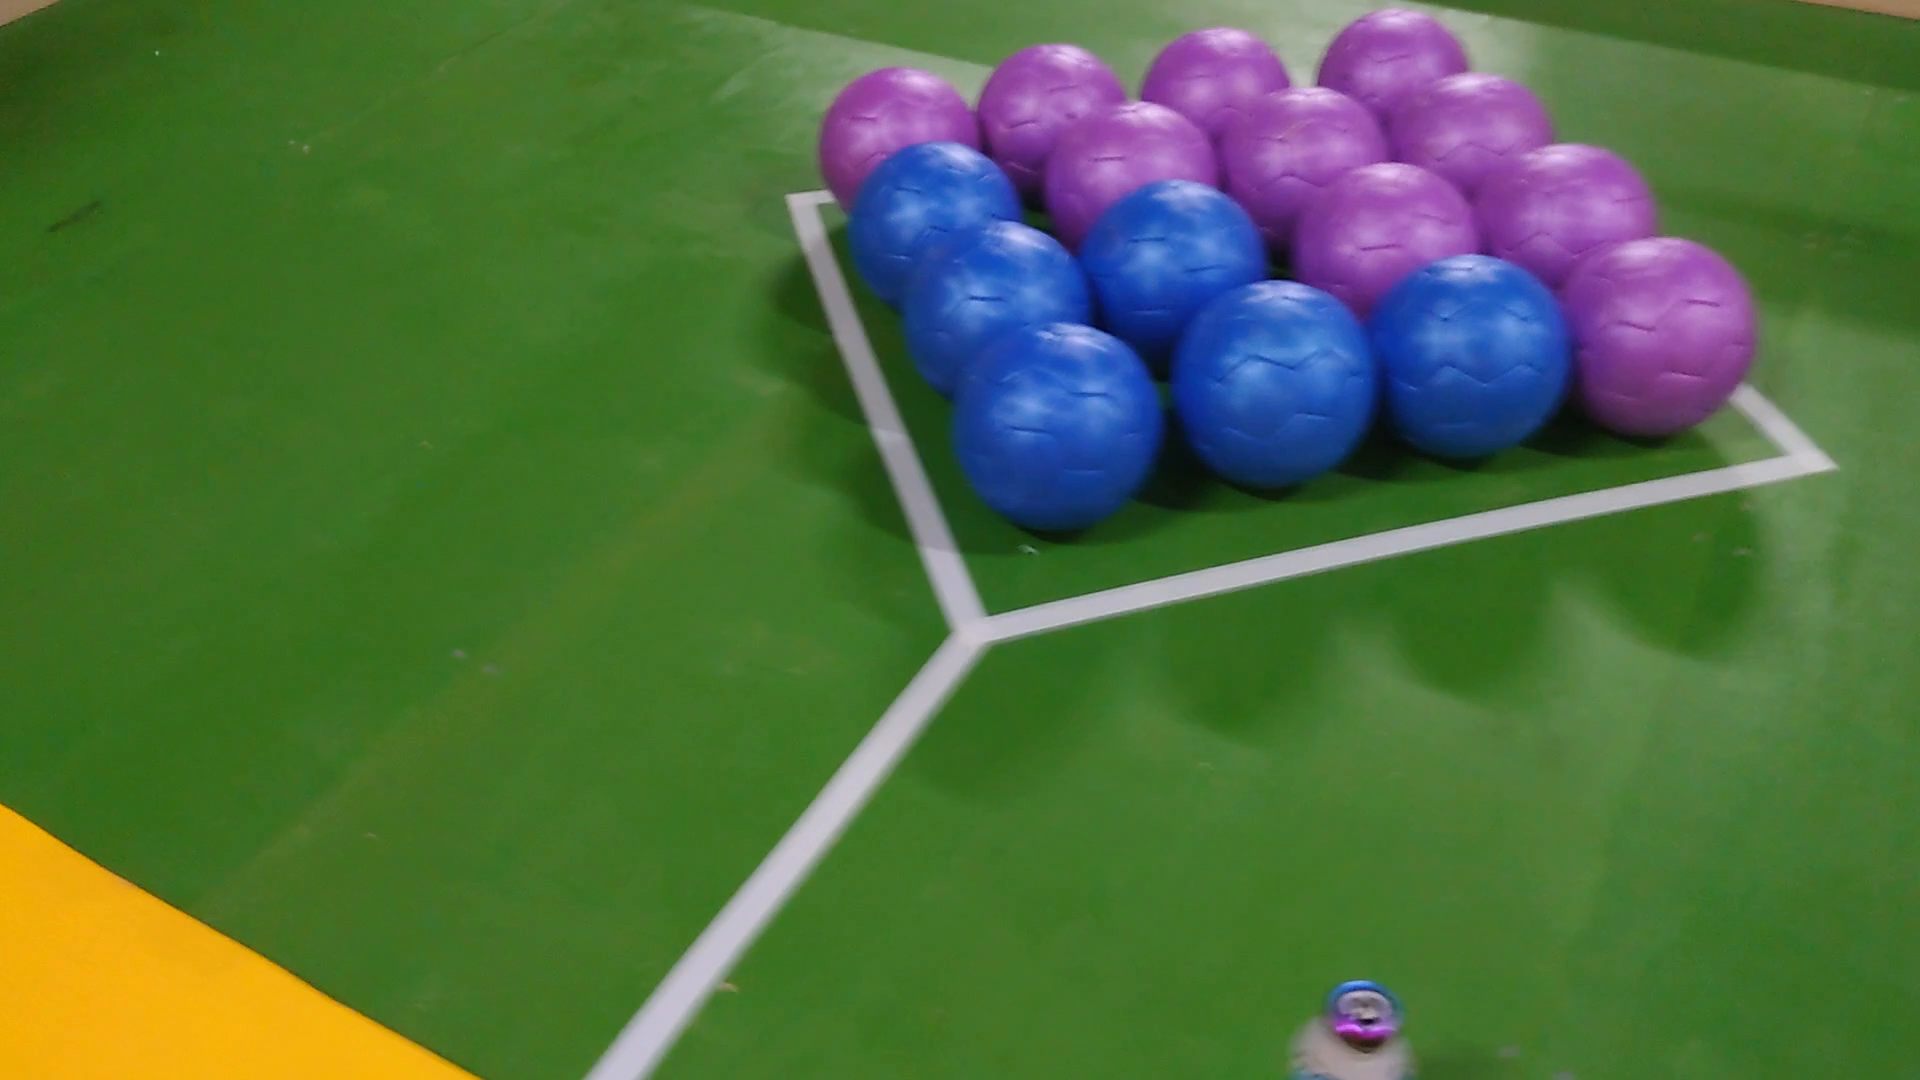blue: (953, 310, 1159, 535), (1172, 284, 1371, 496), (1371, 252, 1568, 460), (901, 219, 1084, 382), (1081, 177, 1267, 320), (856, 137, 1022, 297)
purple: (1557, 239, 1756, 438), (1294, 164, 1473, 301), (1476, 146, 1655, 277), (816, 66, 980, 199), (1221, 84, 1385, 206), (1044, 104, 1212, 219), (1387, 71, 1551, 183), (1133, 29, 1287, 140), (973, 46, 1130, 144), (1312, 13, 1473, 104)
